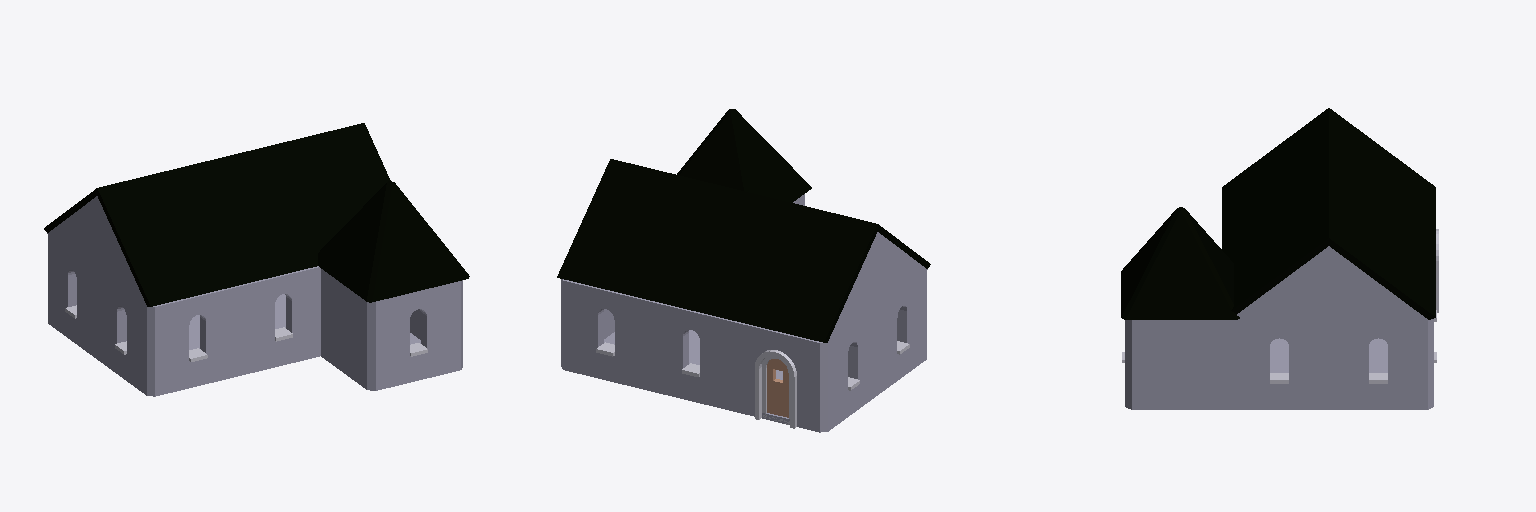
Rendered from House7.obj.
3 renders of one model, left to right at view 1: azimuth 30°, elevation 25°; view 2: azimuth 150°, elevation 25°; view 3: azimuth 270°, elevation 25°, orthographic.
Bounding box in the file's own units: 3.2 × 1.99 × 3.22.